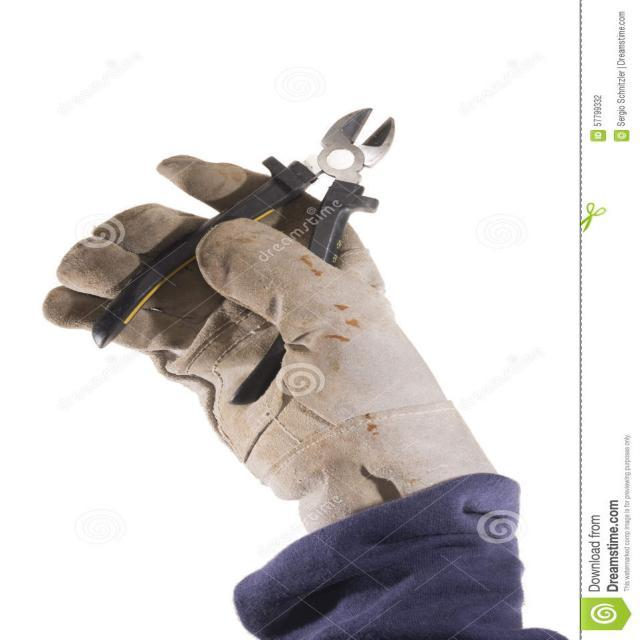pliers: (86, 105, 402, 408)
